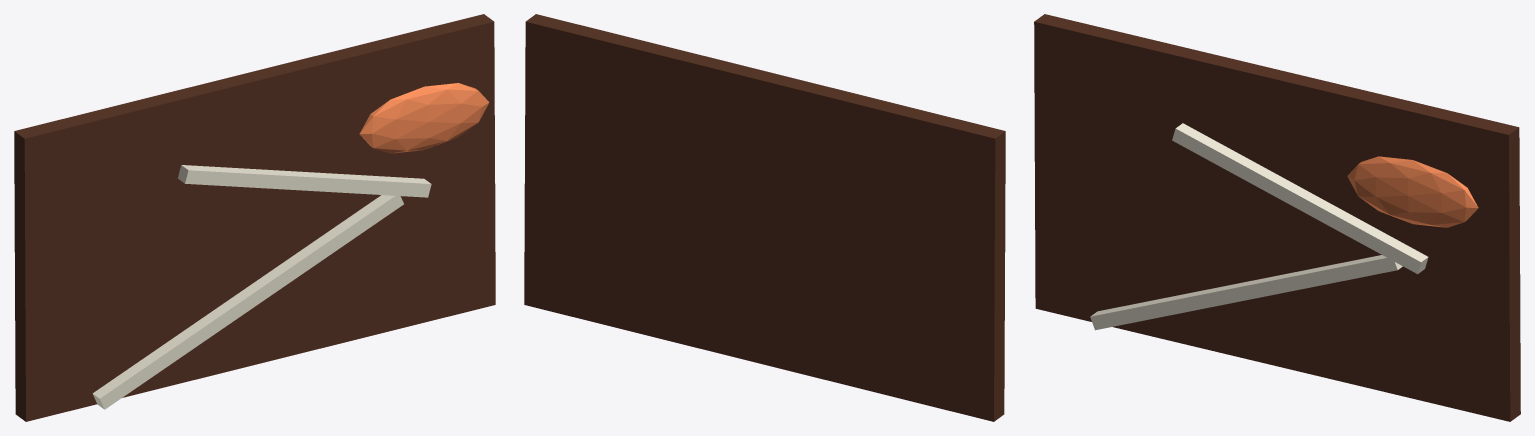
The model's file is 01_weathering_wear_overlay_1.glb.
3 renders of one model, left to right at view 1: azimuth 30°, elevation 25°; view 2: azimuth 150°, elevation 25°; view 3: azimuth 330°, elevation 25°, orthographic.
Visible parts, largest first — view 1: wear_plate, scratch_a, rust_or_moss_spot, scratch_b; view 2: wear_plate; view 3: wear_plate, rust_or_moss_spot, scratch_b, scratch_a.
Boxes of the visible parts, box(x1,y1,x2,y2) form: wear_plate: box(14, 14, 495, 421); scratch_a: box(92, 195, 403, 409); rust_or_moss_spot: box(359, 83, 489, 153); scratch_b: box(178, 165, 431, 197); wear_plate: box(524, 14, 1005, 421); wear_plate: box(1034, 14, 1520, 421); rust_or_moss_spot: box(1347, 156, 1478, 227); scratch_b: box(1172, 123, 1428, 274); scratch_a: box(1090, 255, 1402, 330).
Bounding box in the file's own units: 1.3 × 0.7566 × 0.134.
